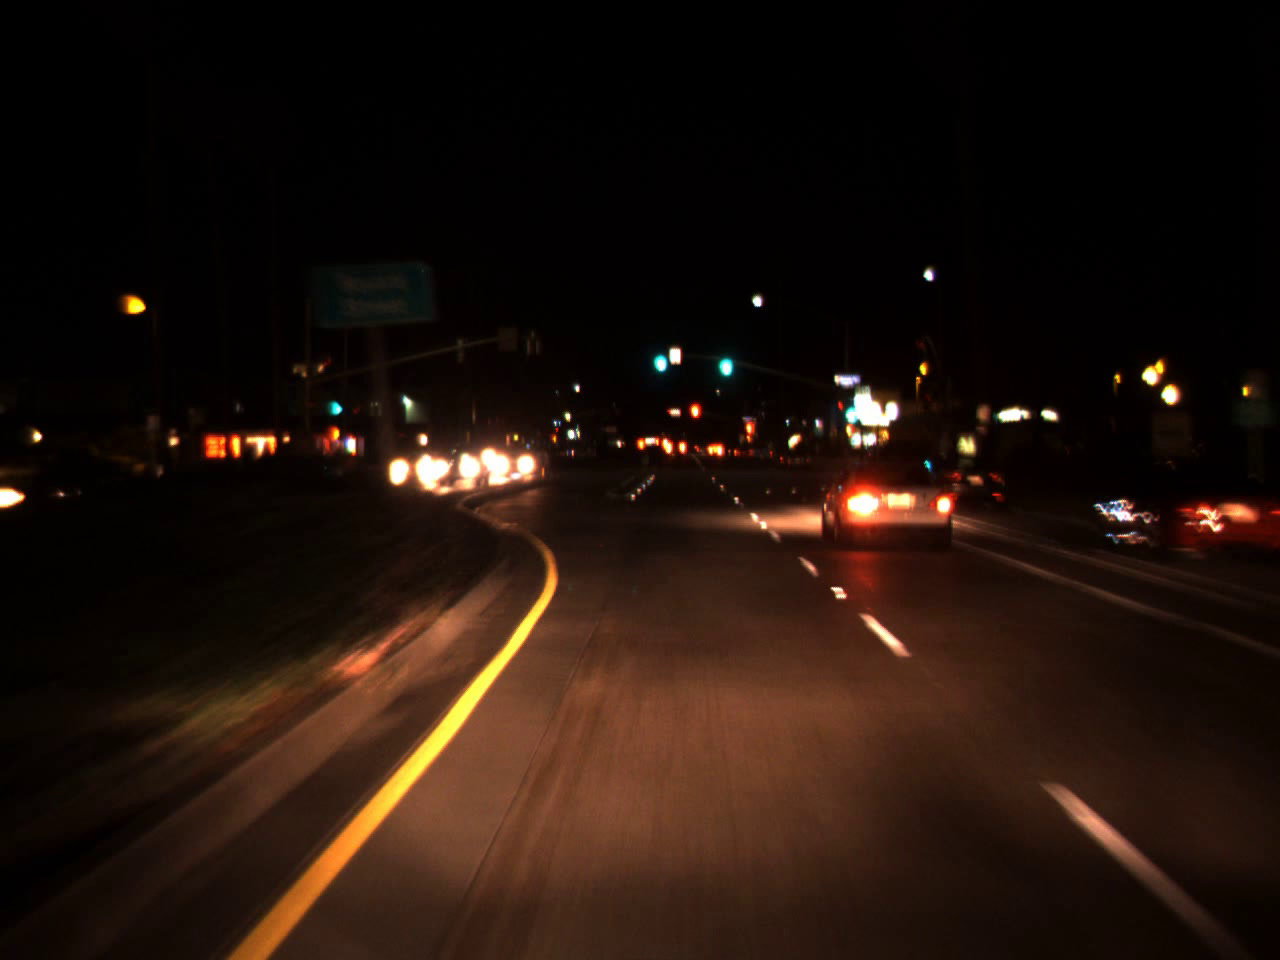go: (714, 337, 735, 382), (649, 336, 668, 375), (841, 391, 857, 427), (328, 386, 344, 419)
stop: (688, 400, 701, 437), (741, 418, 754, 450)
